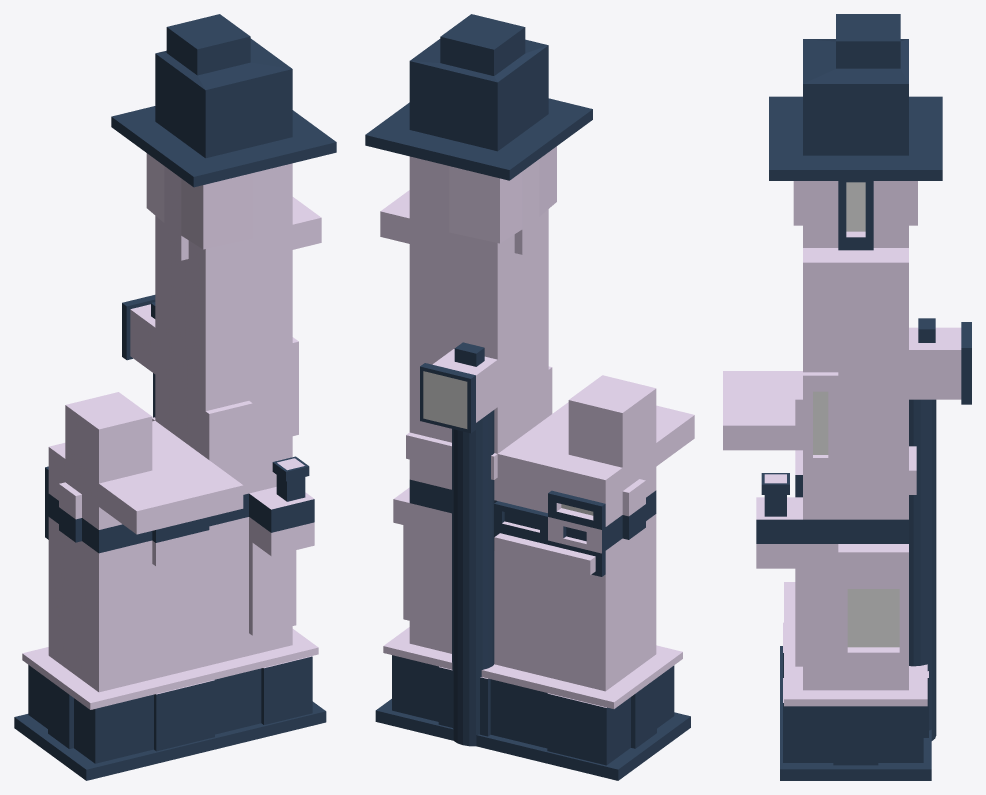
File: V2_Buildings_Rico.fbx
The picture shows the model from 3 angles, left to right: view 1: azimuth 30°, elevation 25°; view 2: azimuth 150°, elevation 25°; view 3: azimuth 270°, elevation 25°; orthographic projection. The views are drawn at different scales.
Parts seen in each view (by area): view 1: Cube.001; view 2: Cube.001; view 3: Cube.001.
Boxes of the visible parts, <box> form: Cube.001: <box>14,14,336,780</box>; Cube.001: <box>365,14,694,780</box>; Cube.001: <box>723,14,971,780</box>.
Bounding box in the file's own units: 2994 × 7890 × 2490.
